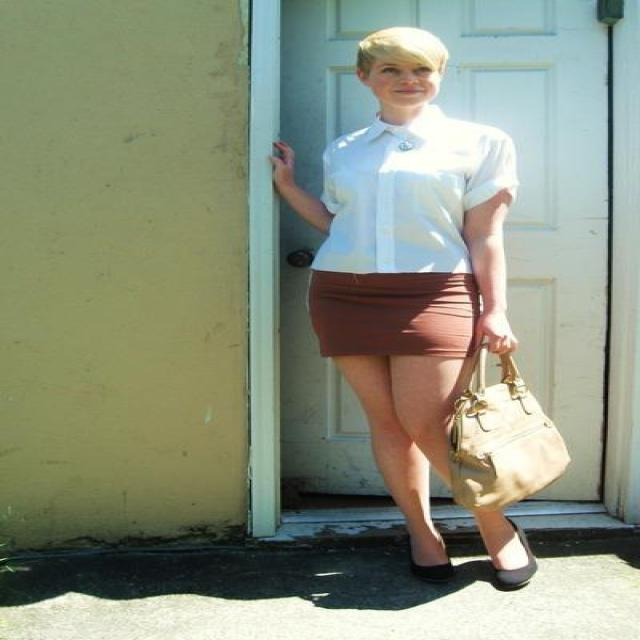bag: (424, 332, 570, 506)
shirt: (310, 101, 525, 273)
shoe: (488, 550, 542, 589)
skirt: (308, 259, 482, 370)
